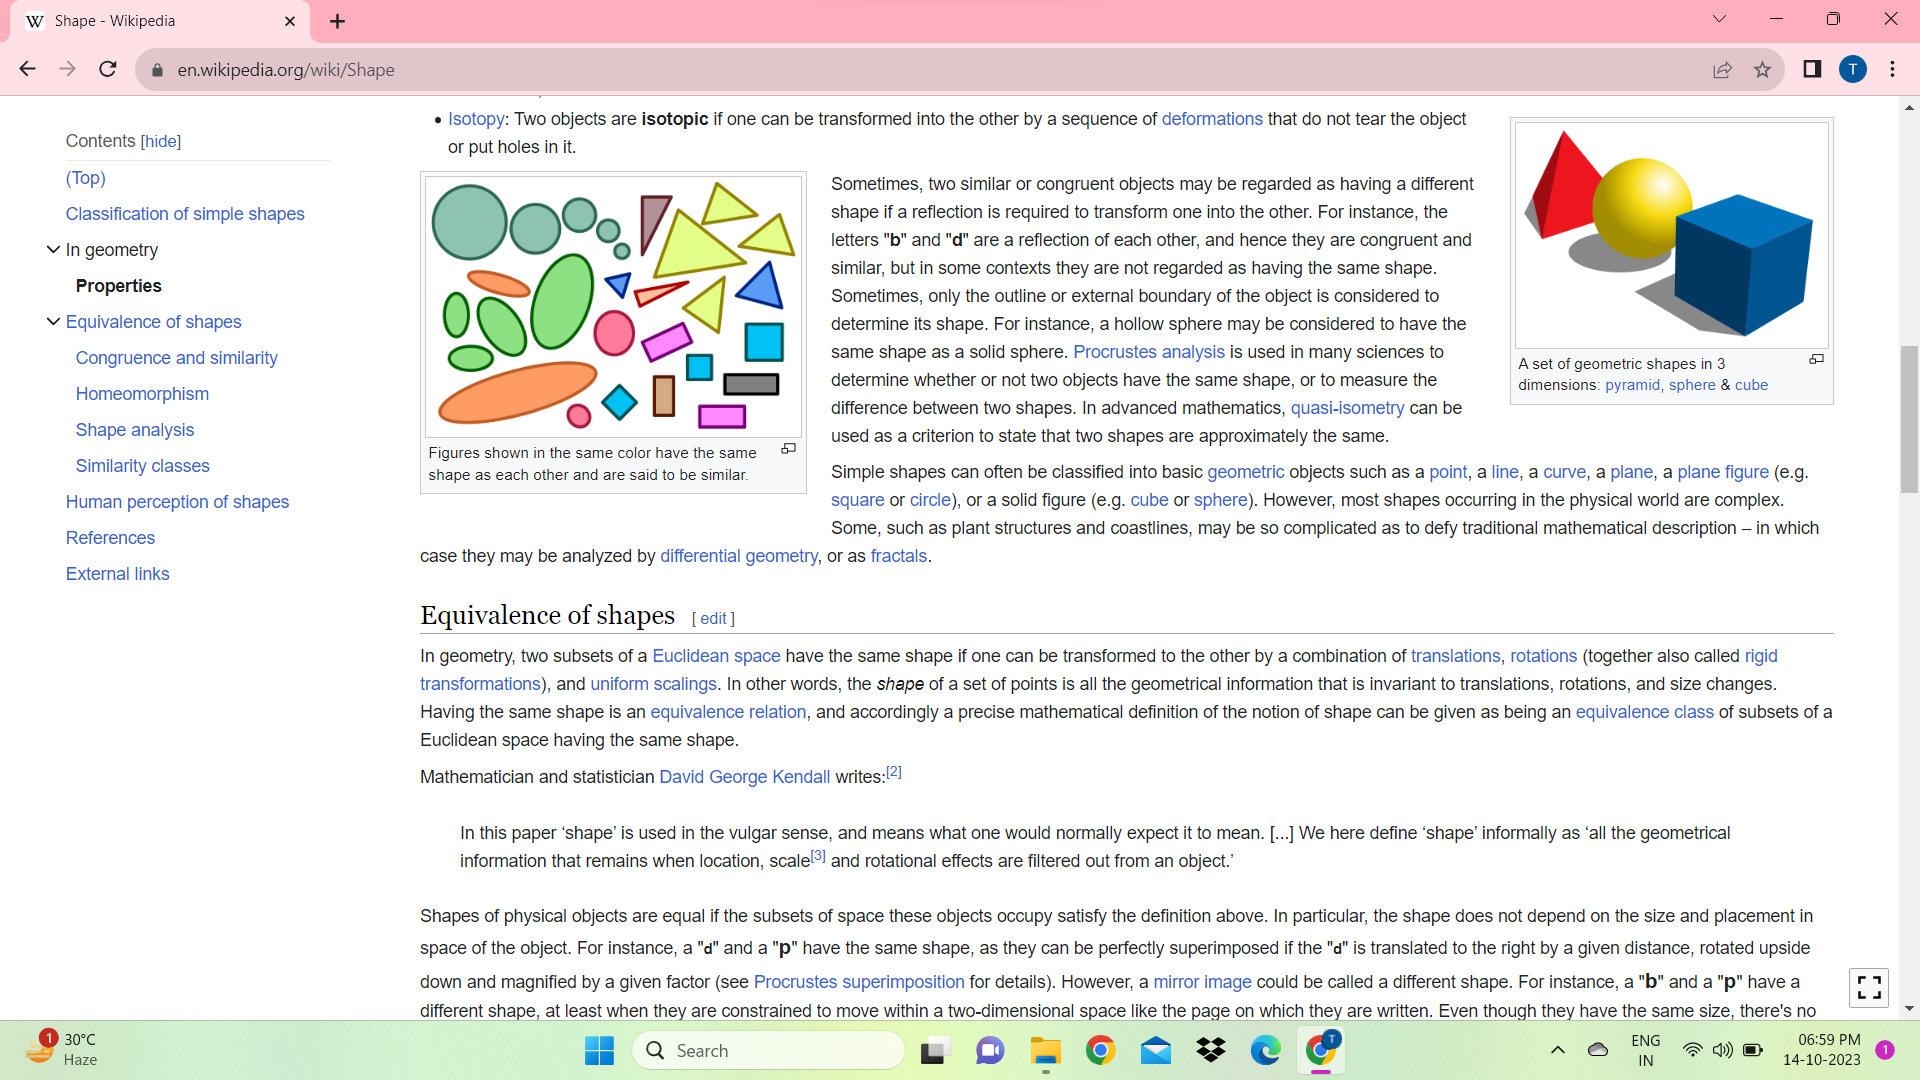Image: (410, 169, 814, 454), (1509, 116, 1828, 359)
Paragraph: (394, 641, 1870, 787), (407, 893, 1845, 1029), (827, 164, 1499, 447), (388, 462, 1853, 570), (421, 798, 1737, 876), (401, 92, 1502, 160), (390, 587, 703, 634), (58, 194, 316, 231), (58, 488, 298, 518), (58, 376, 258, 406), (65, 264, 186, 305), (62, 554, 187, 591)
